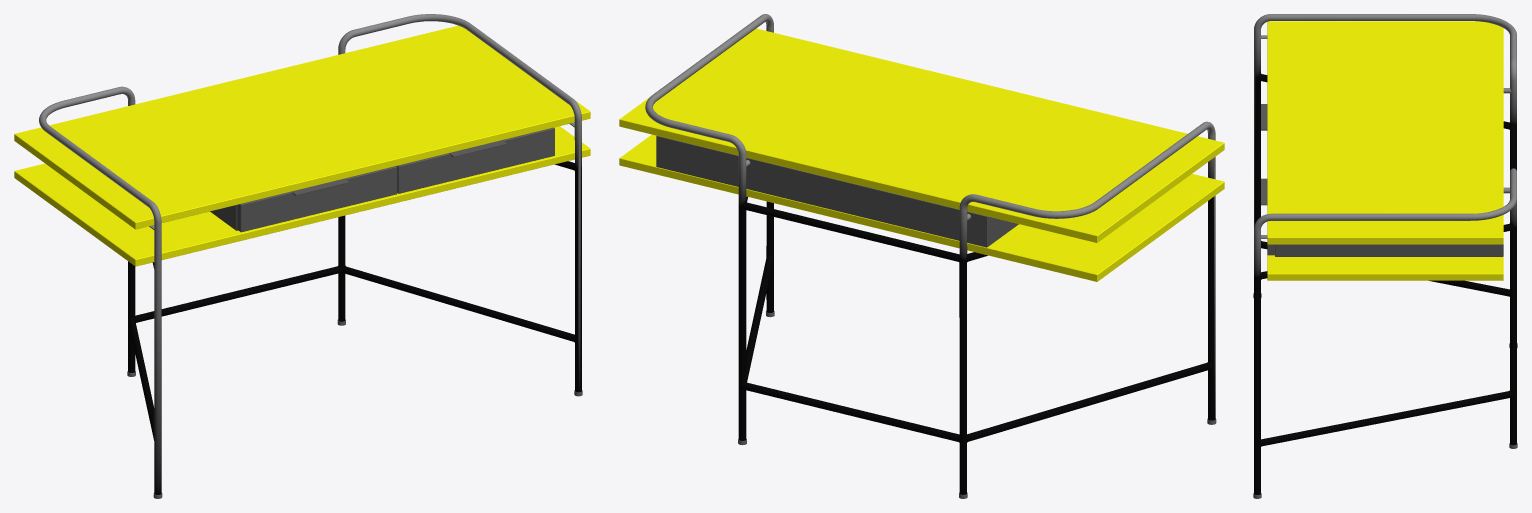
File: designconnected-alando-desk-10784.optimized.glb
The picture shows the model from 3 angles, left to right: view 1: azimuth 30°, elevation 25°; view 2: azimuth 150°, elevation 25°; view 3: azimuth 270°, elevation 25°; orthographic projection. The views are drawn at different scales.
Parts seen in each view (by area): view 1: Ligne_Roset_Alando_Desk; view 2: Ligne_Roset_Alando_Desk; view 3: Ligne_Roset_Alando_Desk.
Boxes of the visible parts, box(x1,y1,x2,y2) form: Ligne_Roset_Alando_Desk: box(14, 14, 590, 498); Ligne_Roset_Alando_Desk: box(619, 14, 1224, 498); Ligne_Roset_Alando_Desk: box(1253, 14, 1517, 498).
Size of the model in its own units: 1.3 by 0.7931 by 0.671.
